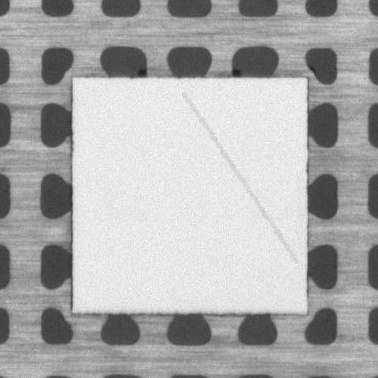DIE_CRACK: (184, 93, 297, 262)
